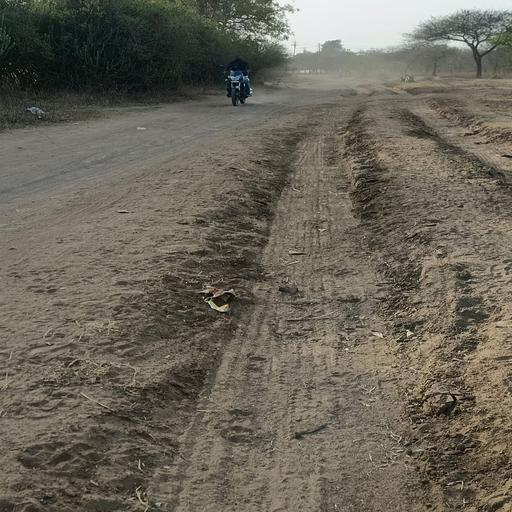vehicle_track: (170, 109, 442, 512), (0, 102, 257, 214), (406, 102, 512, 180)
